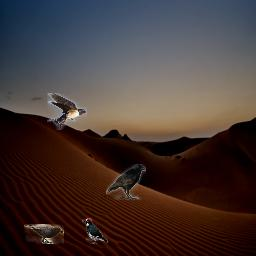Crow: (106, 164, 146, 200), (24, 224, 64, 244)
Swallow: (47, 93, 87, 130)
Woodpecker: (82, 218, 108, 244)
